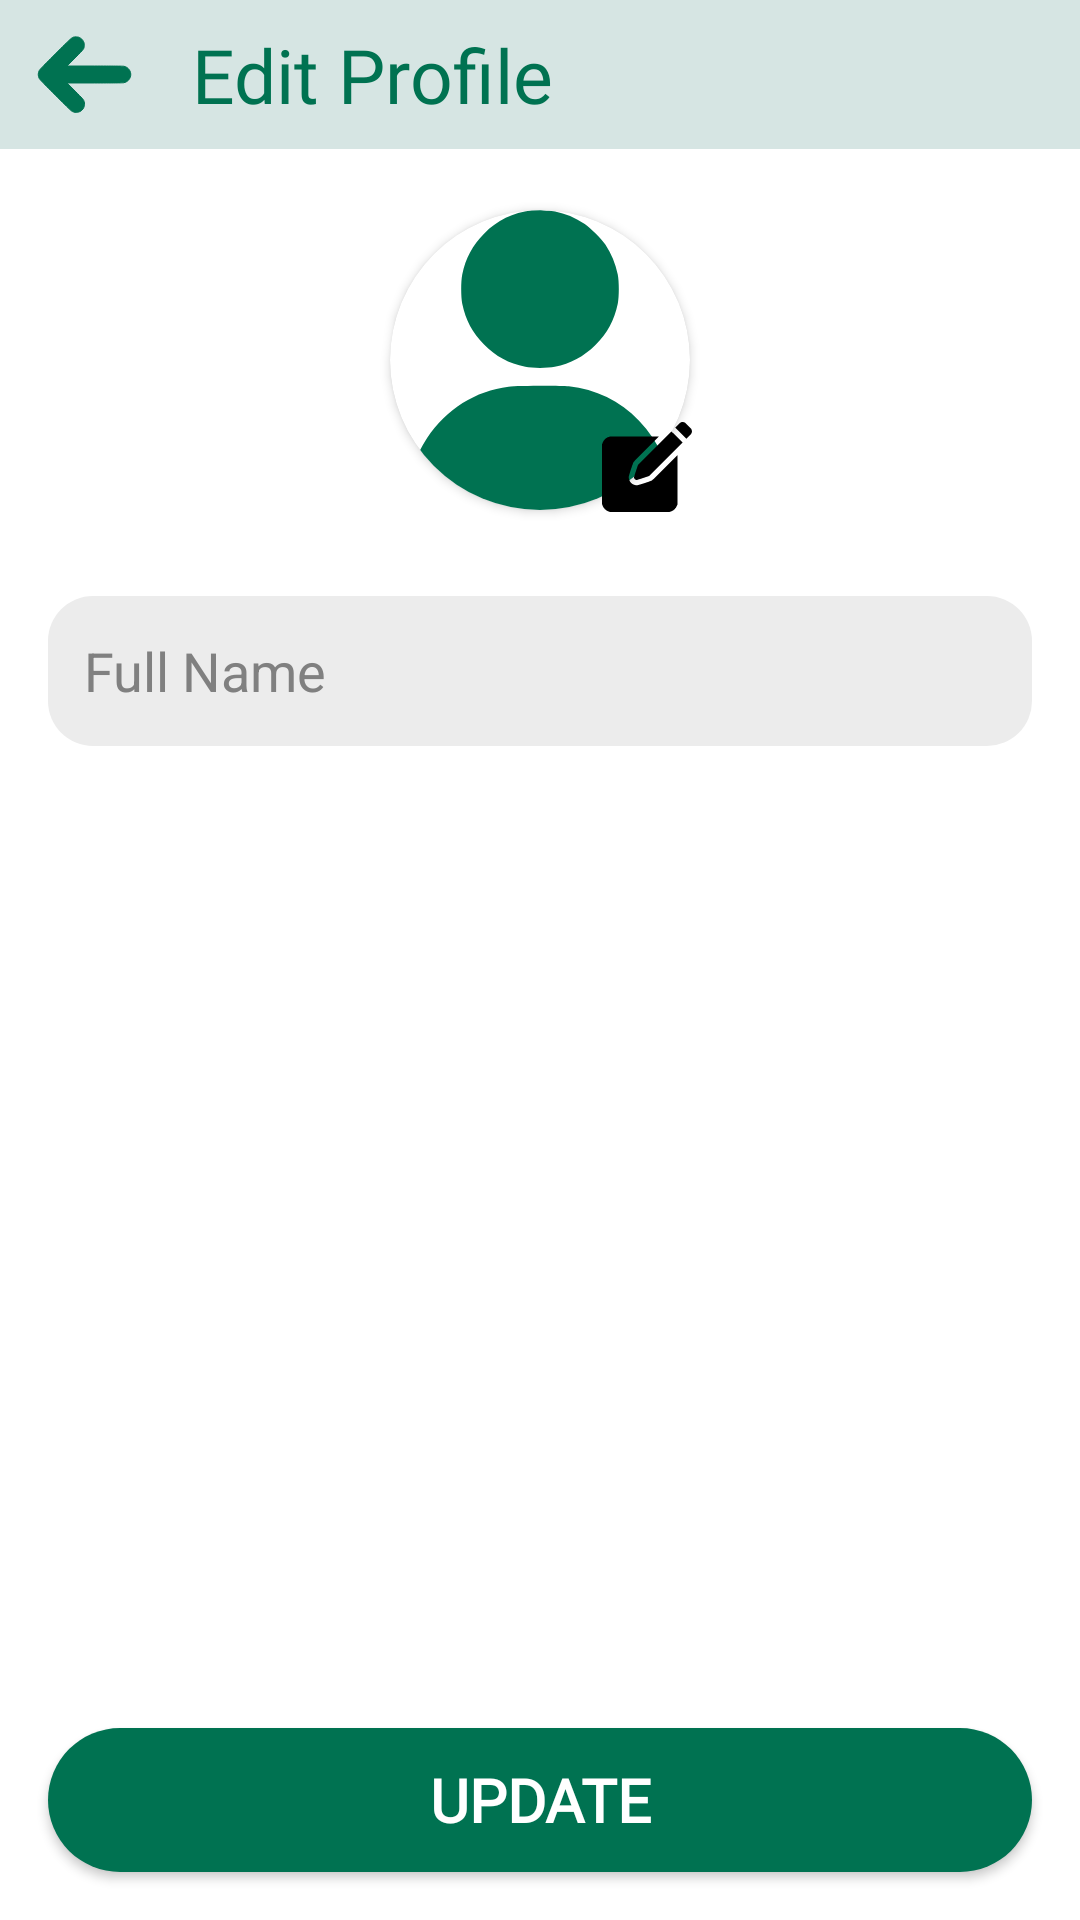

Where icons sit on this 1080w x 1920h app screen, as bbox=(x1, y1, x2, y2):
back: bbox=(37, 36, 132, 113)
